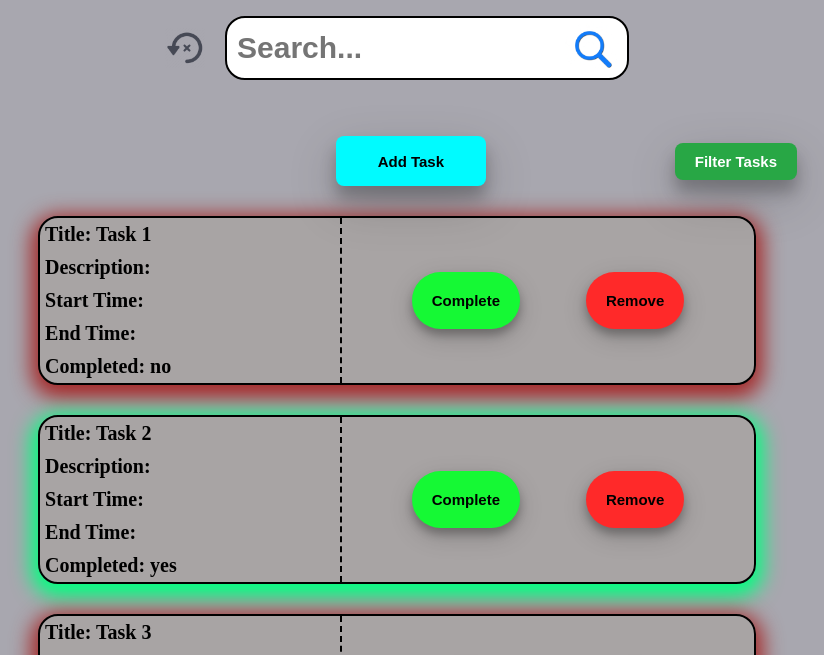
Test: Filter tasks based on radio button selection
Expected: the text "Title: Task 1" is shown, [45,223,152,245]
Expected: the text "Title: Task 2" is shown, [45,422,152,444]
Click the button "Filter Tasks".
click(736, 161)  # box [675,142,797,180]
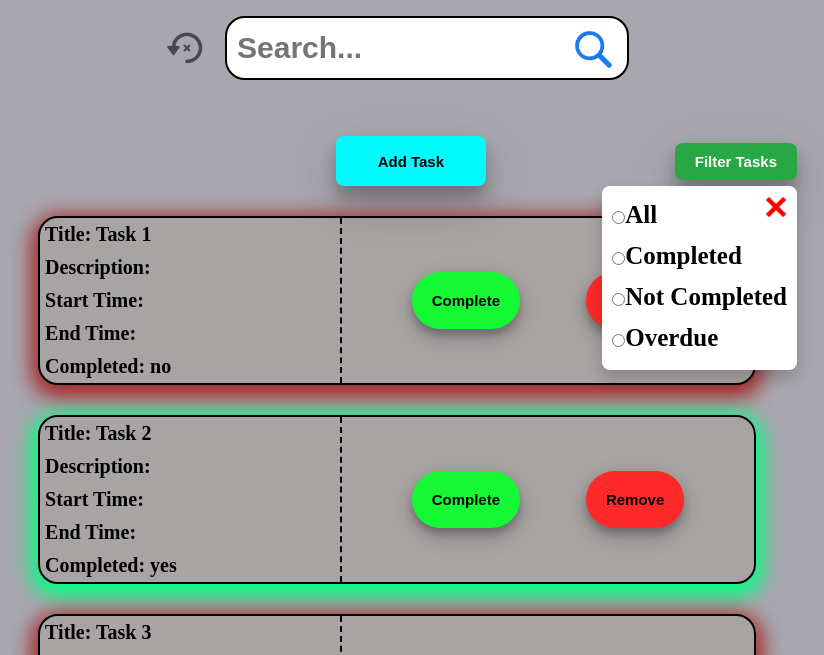
Click the radio button with id "completed".
click(619, 258)  # box [612,252,625,265]
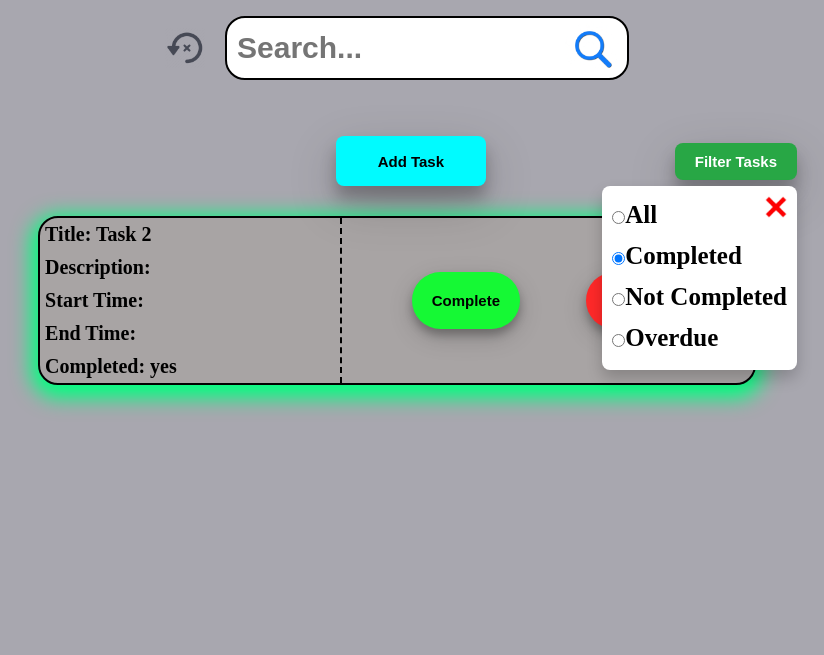
Expected: the text "Title: Task 2" is shown, [45,223,152,245]
